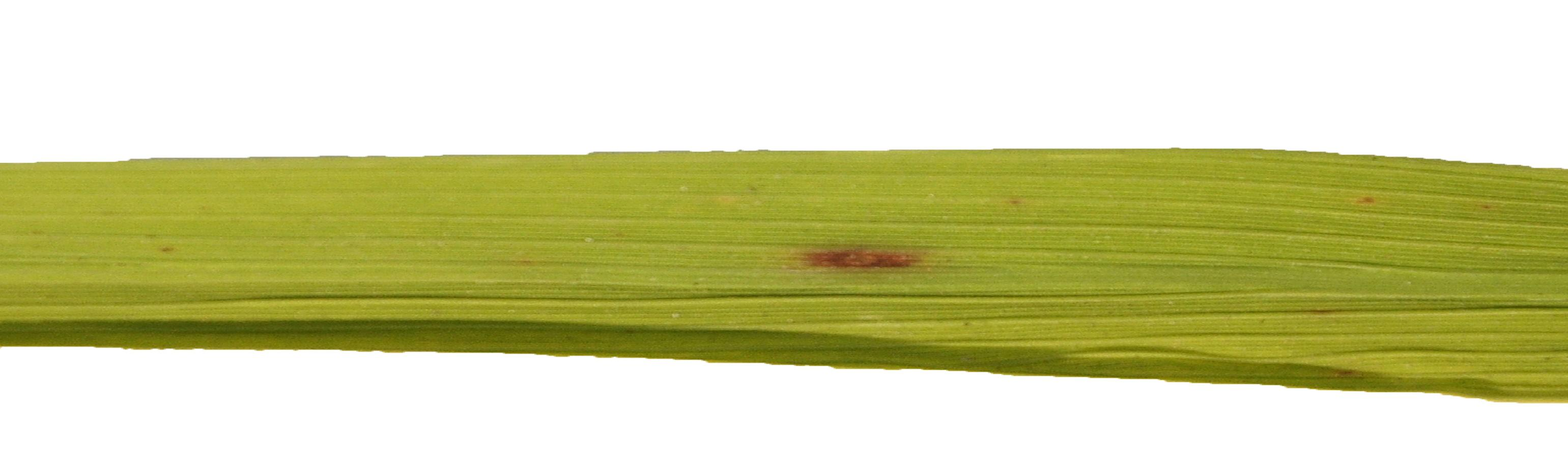Brown spot: (791, 212, 948, 290)
